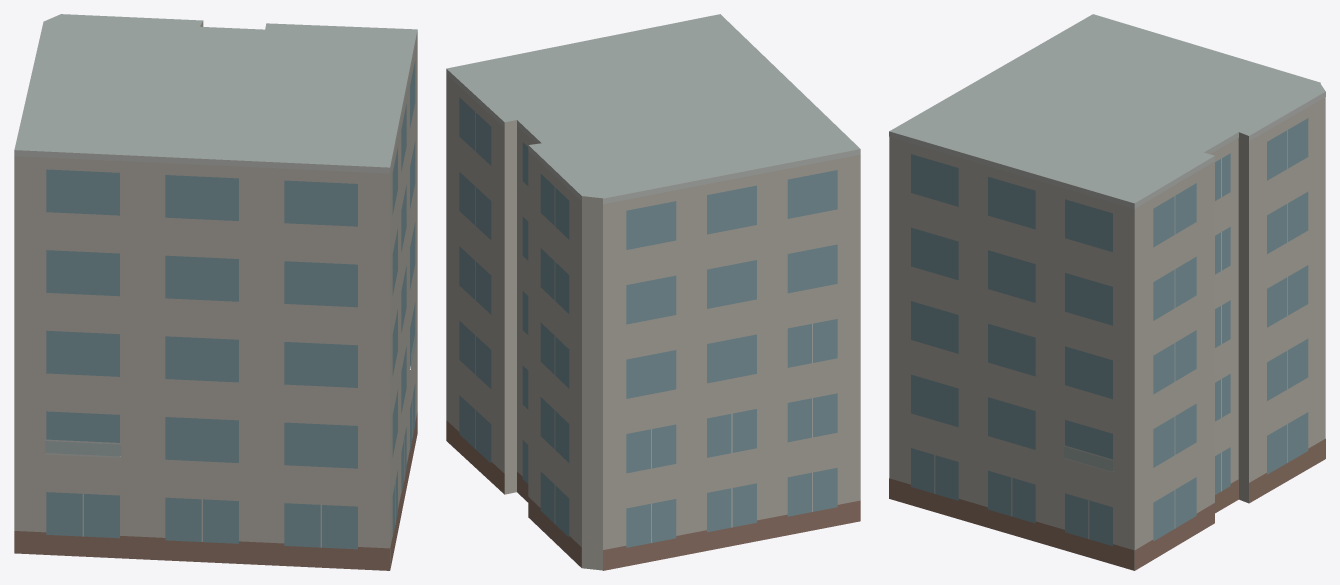
File: survey-upis-32832199.glb
3 renders of one model, left to right at view 1: azimuth 30°, elevation 25°; view 2: azimuth 150°, elevation 25°; view 3: azimuth 270°, elevation 25°, orthographic. The views are drawn at different scales.
Parts seen in each view (by area): view 1: survey-upis-32832199.tmp; view 2: survey-upis-32832199.tmp; view 3: survey-upis-32832199.tmp.
Part boxes in pixels (box(x1,y1,x2,y2)): survey-upis-32832199.tmp: box(14, 14, 417, 570); survey-upis-32832199.tmp: box(446, 14, 860, 570); survey-upis-32832199.tmp: box(889, 14, 1325, 570).
Bounding box in the file's own units: 18.21 × 16.46 × 17.73.
